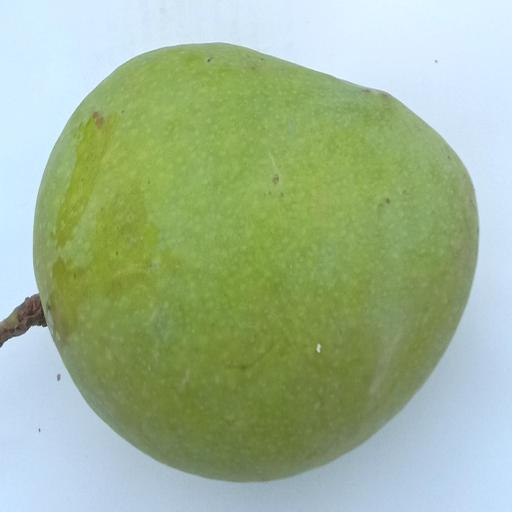mango-unripe: (18, 34, 496, 475)
